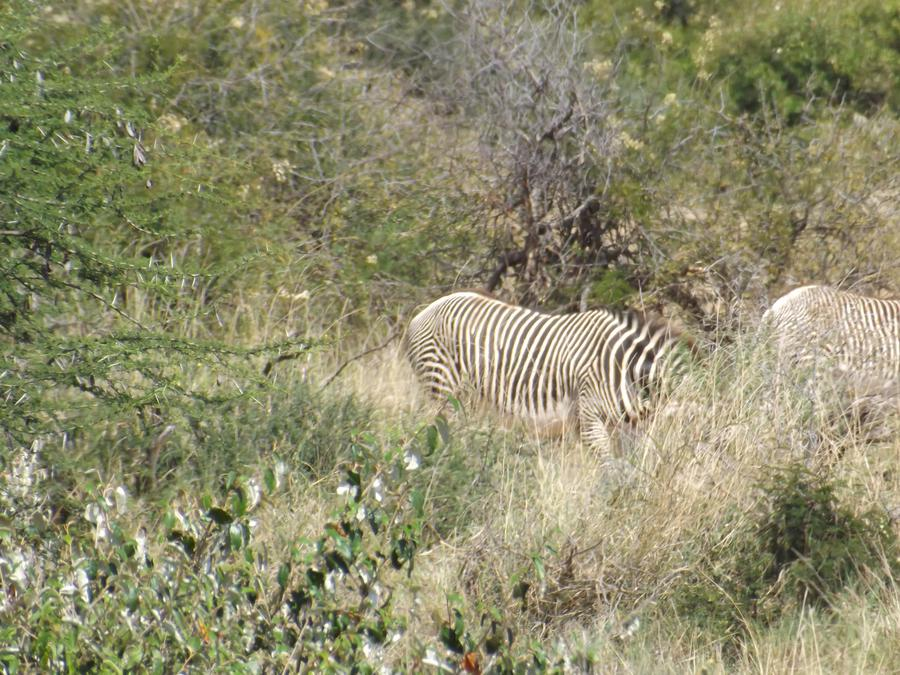zebra_grevys: (393, 268, 627, 428)
